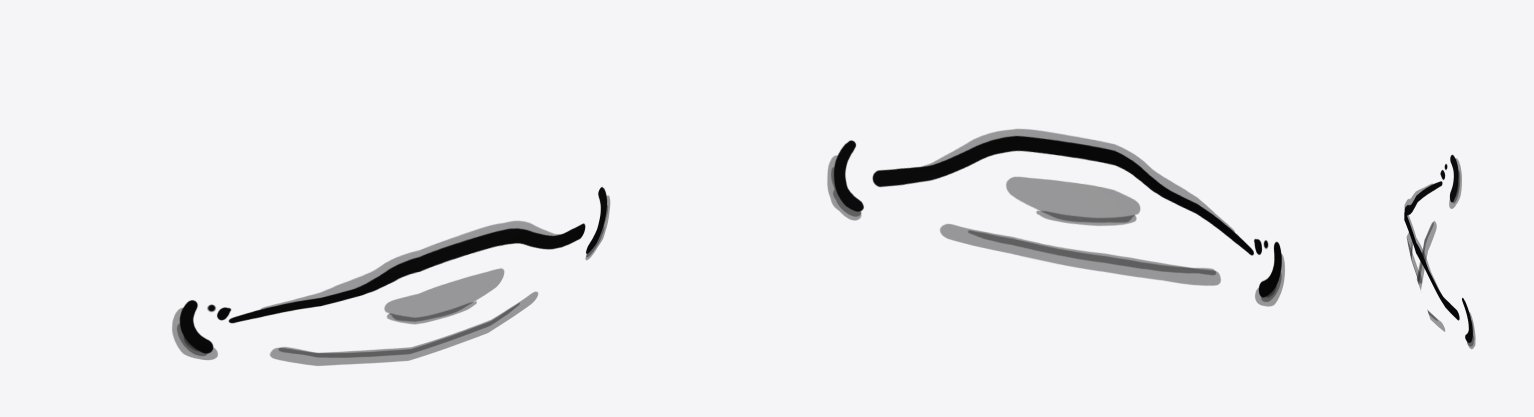
Rendered from Mouth7.glb.
3 renders of one model, left to right at view 1: azimuth 30°, elevation 25°; view 2: azimuth 150°, elevation 25°; view 3: azimuth 270°, elevation 25°, orthographic. The views are drawn at different scales.
Parts seen in each view (by area): view 1: Mouth7; view 2: Mouth7; view 3: Mouth7.
Boxes of the visible parts, x1,y1,x2,y2 form: Mouth7: [172, 187, 609, 365]; Mouth7: [827, 129, 1284, 306]; Mouth7: [1404, 154, 1475, 348].
Size of the model in its own units: 0.2559 by 0.0939 by 0.0534.
1 material, 1 textured.
